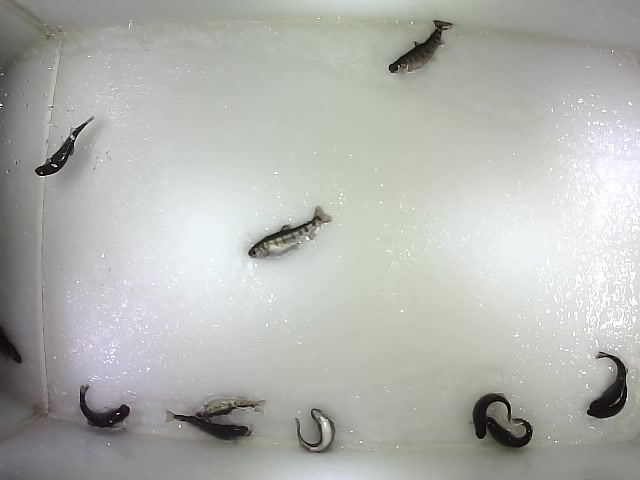fish: (245, 203, 335, 263), (33, 113, 97, 179), (387, 18, 456, 76), (165, 409, 253, 446), (78, 382, 133, 432), (590, 351, 630, 412), (586, 366, 631, 420), (468, 391, 514, 441), (293, 407, 338, 453), (195, 395, 268, 420), (483, 416, 534, 450)
